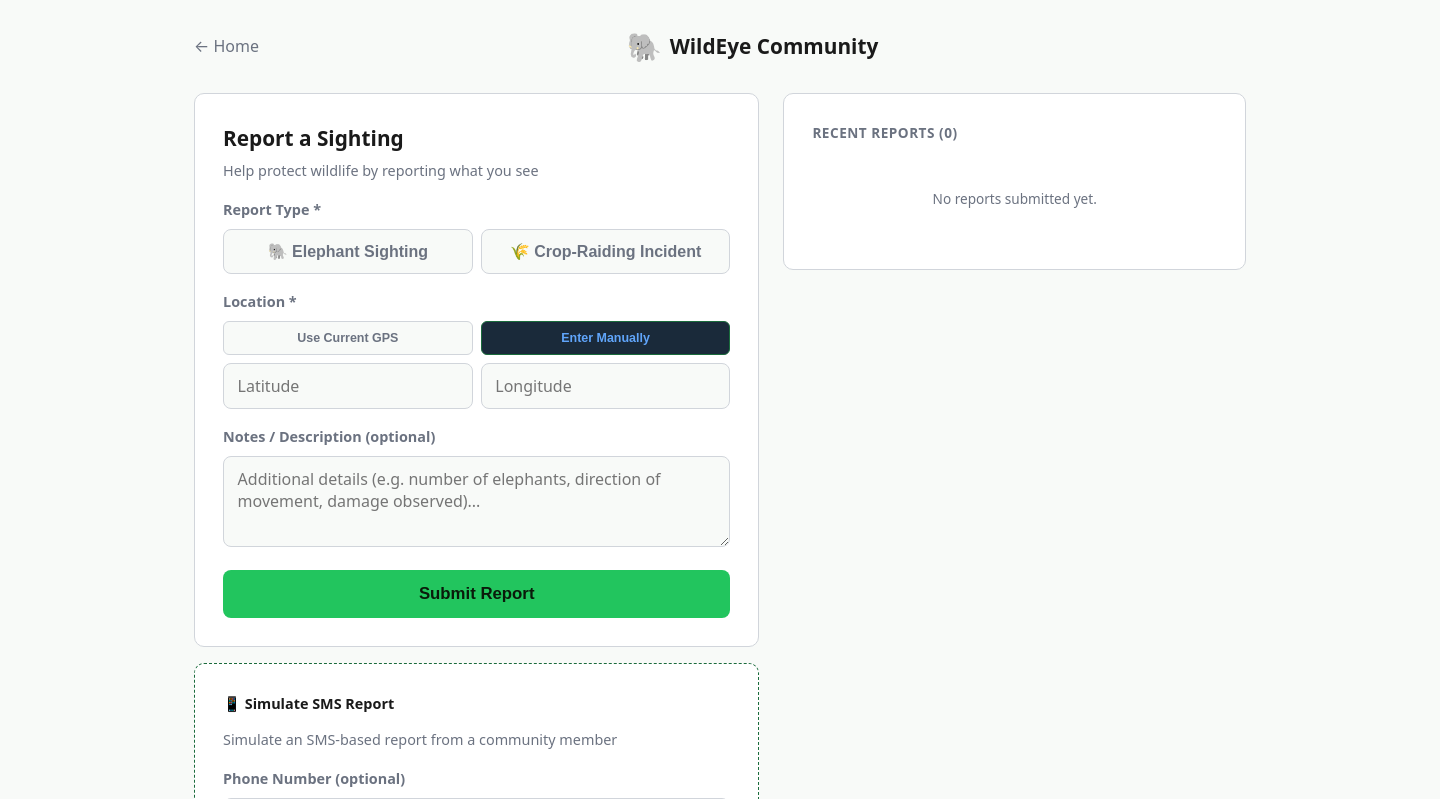
Scenario: CommunityReporting - validation › rejects an out-of-range latitude
The width and height of the screenshot is (1440, 799).
Click the button "🐘 Elephant Sighting" at (348, 252), box [223,229,473,274]
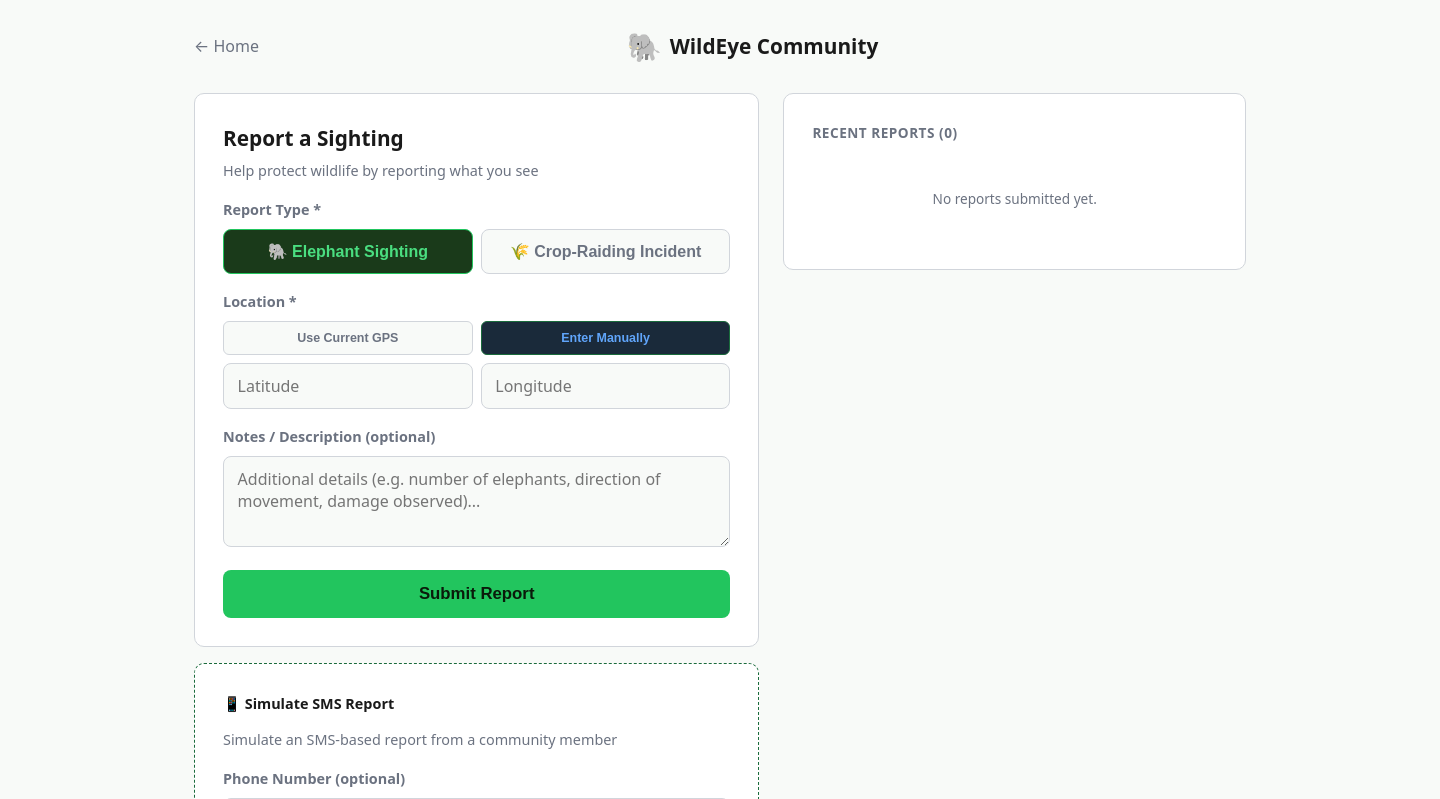
Type "120" into the number field with placeholder "Latitude" at (348, 386), box [223,363,473,409]
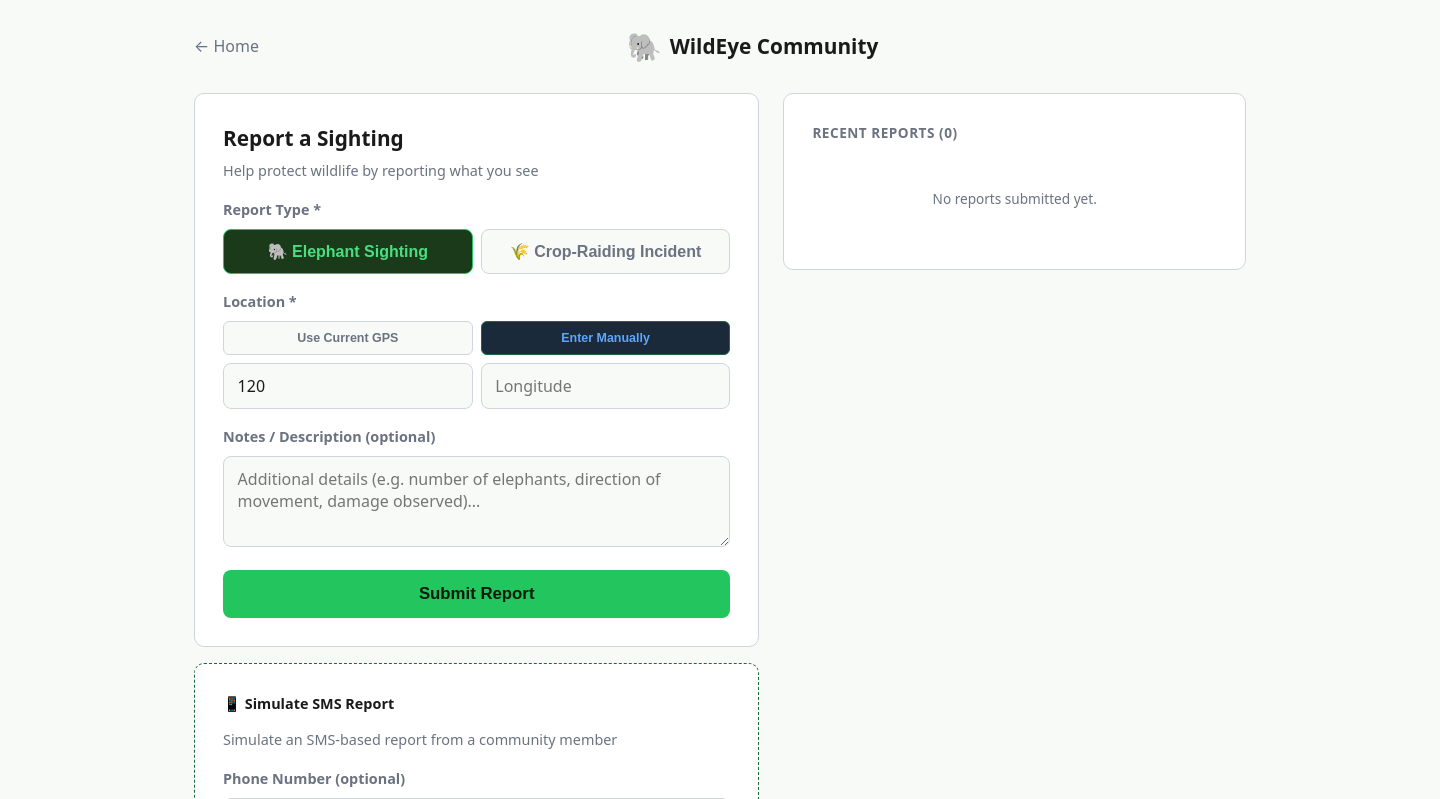
Type "80.91" into the number field with placeholder "Longitude" at (606, 386), box [481,363,730,409]
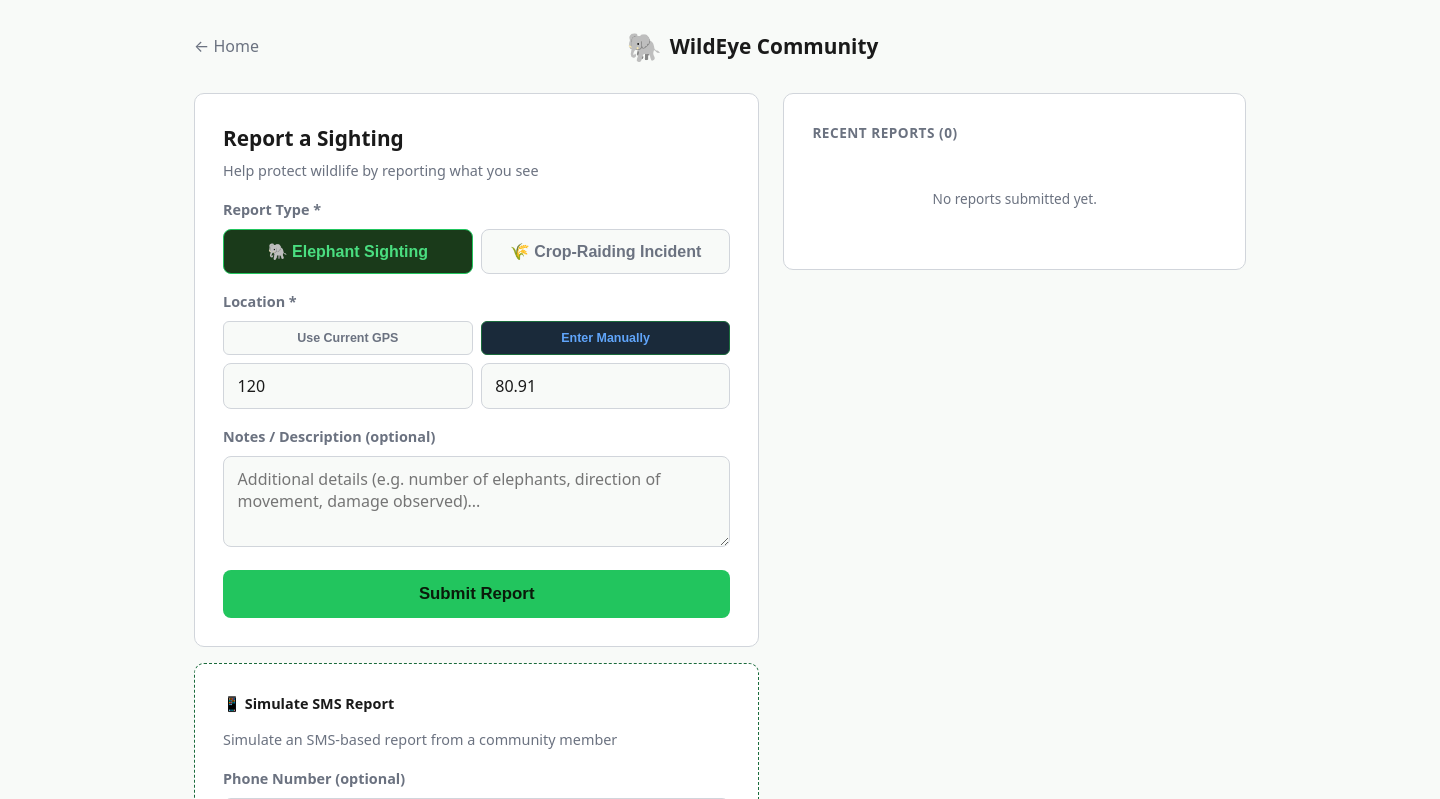
Click the button "Submit Report" at (477, 594), box [223,570,730,618]
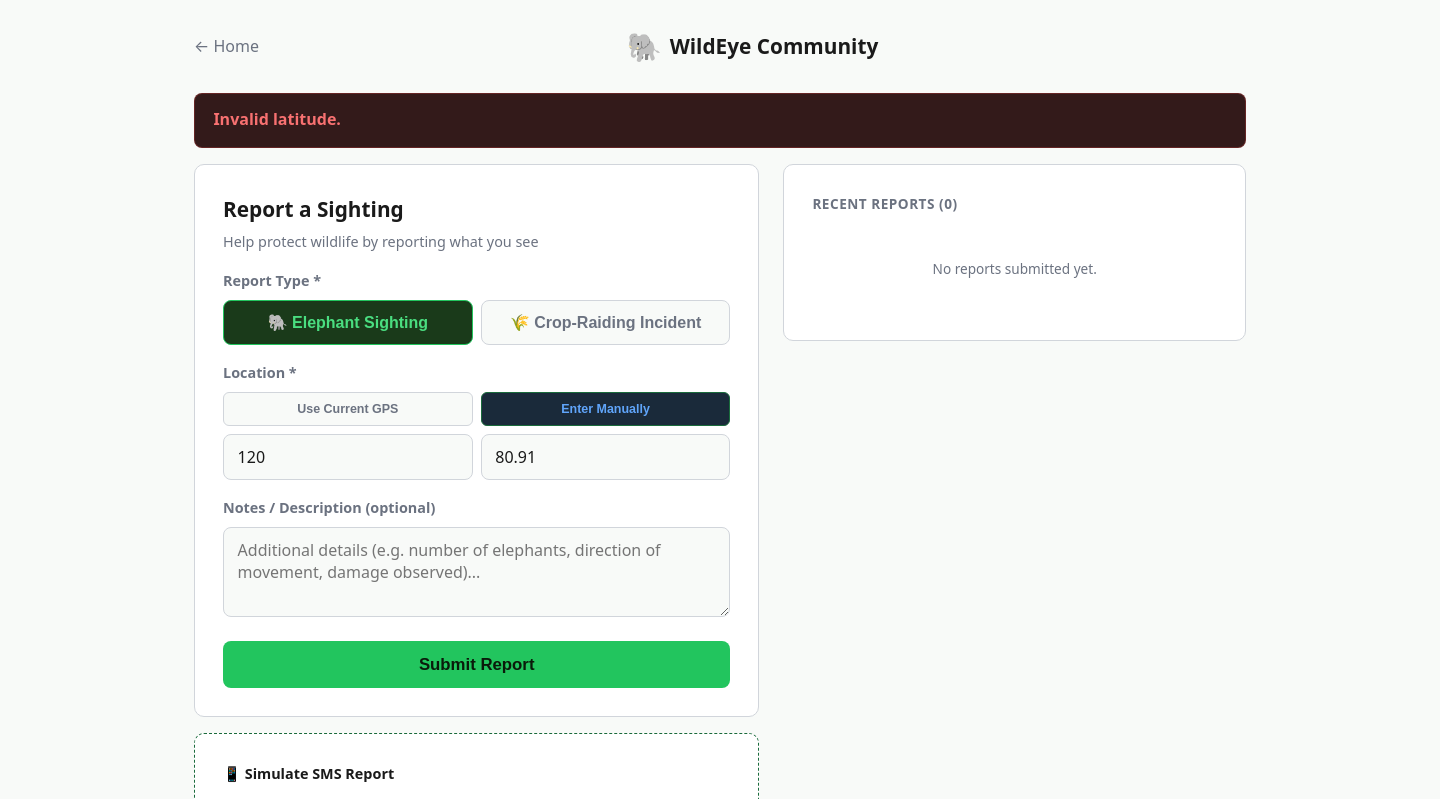
Expected: the text "Invalid latitude." is shown, [194,93,1246,148]
